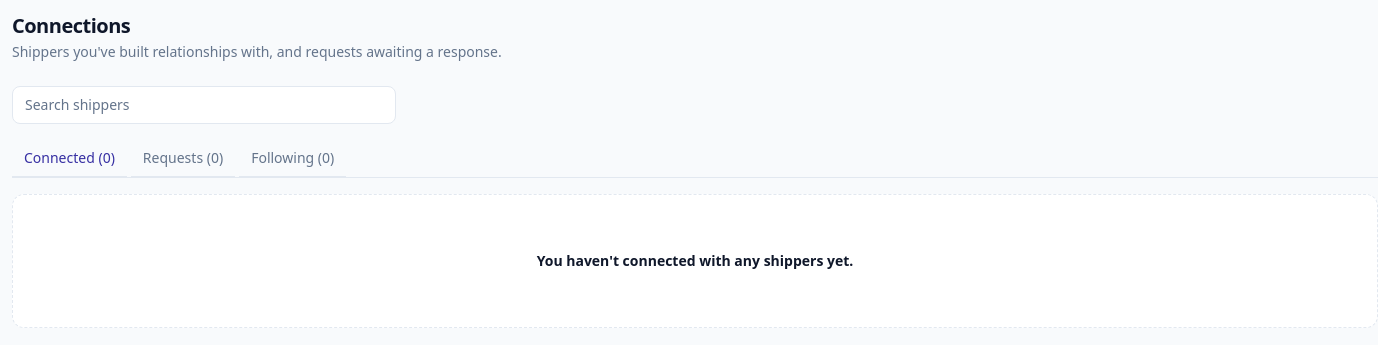
Scenario: NetworkWorkspace › shows the truthful empty state for Following (carrier only)
This screenshot has width=1378, height=345.
Click the tab "Following (0)". click: (293, 159)
box: top-left (239, 140), bottom-right (346, 178)
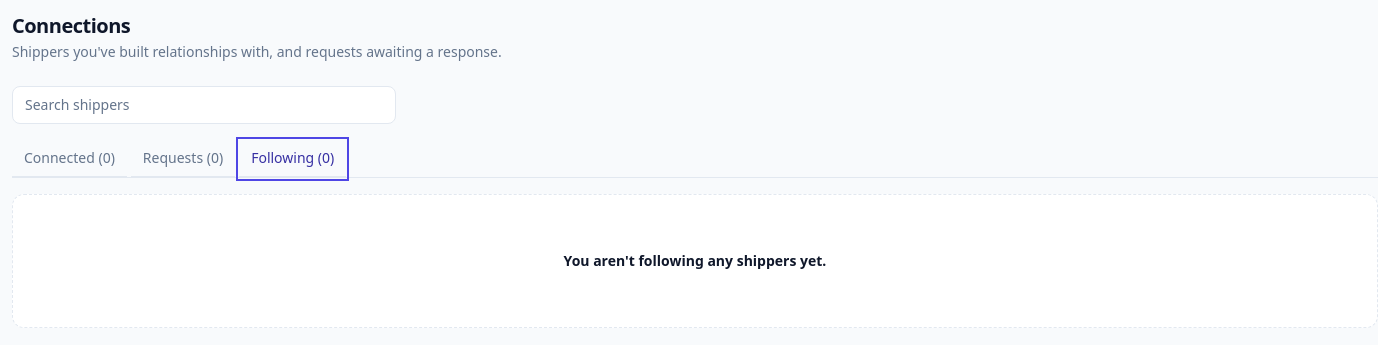
expect the text "You aren't following any shippers yet." is shown: met, box top-left (564, 251), bottom-right (826, 271)
